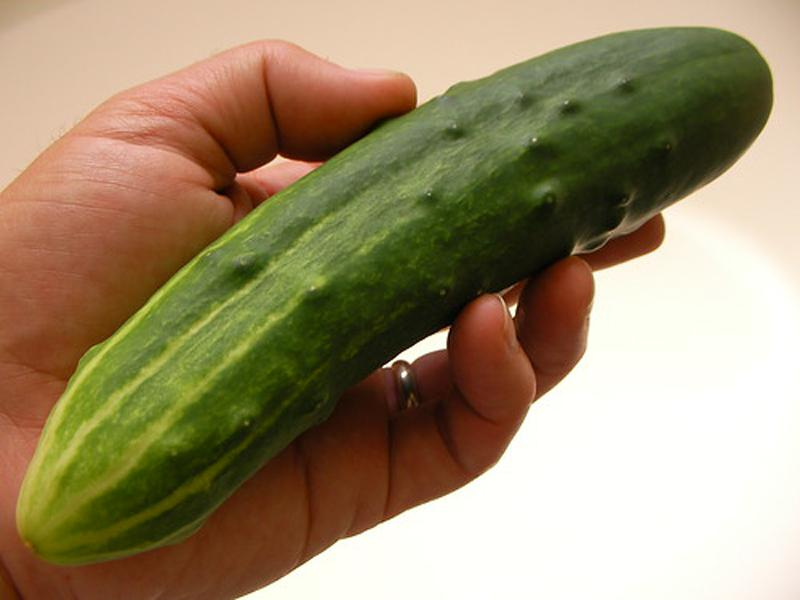Cucumber: (19, 29, 773, 565)
